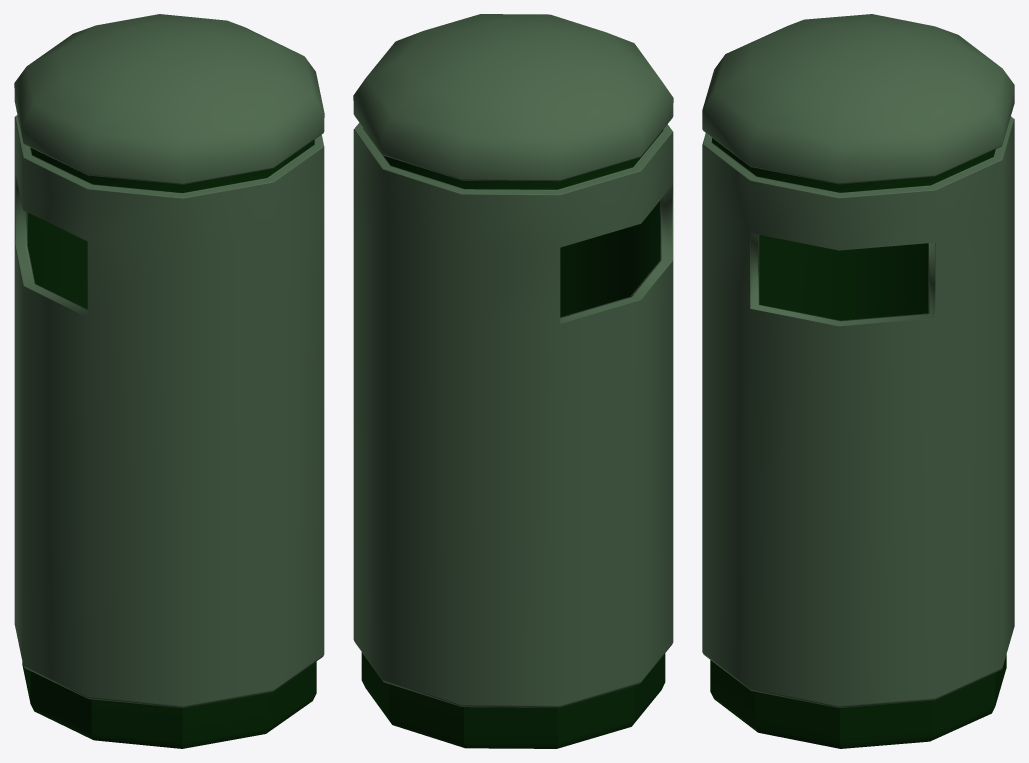
Rendered from StreetBin.fbx.
3 views of the same model, side by side, from view 1: azimuth 30°, elevation 25°; view 2: azimuth 150°, elevation 25°; view 3: azimuth 270°, elevation 25° (orthographic).
Parts seen in each view (by area): view 1: StreetBin; view 2: StreetBin; view 3: StreetBin.
Part boxes in pixels (x1,y1,x2,y2): StreetBin: (14, 14, 324, 748); StreetBin: (353, 14, 673, 748); StreetBin: (702, 14, 1014, 748).
Bounding box in the file's own units: 13.74 × 31.02 × 13.59.
